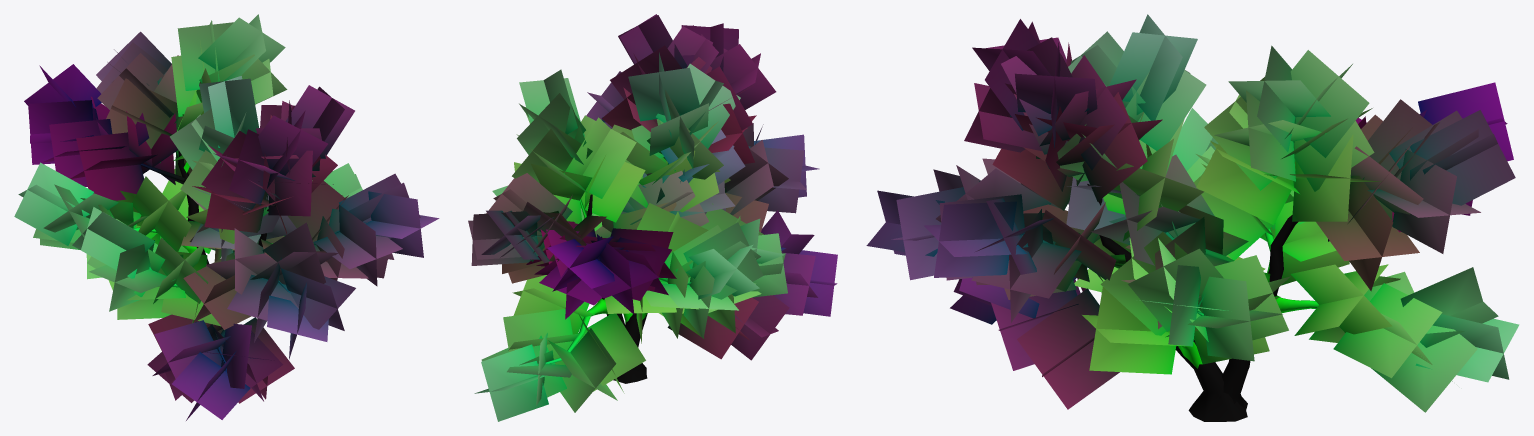
File: M_P11_Tree_8.fbx
3 views of the same model, side by side, from view 1: azimuth 30°, elevation 25°; view 2: azimuth 150°, elevation 25°; view 3: azimuth 270°, elevation 25° (orthographic). The views are drawn at different scales.
Parts seen in each view (by area): view 1: Tree_8; view 2: Tree_8; view 3: Tree_8.
Part boxes in pixels (left/top/right/bottom): Tree_8: left=14, top=14, right=439, bottom=420; Tree_8: left=468, top=14, right=837, bottom=421; Tree_8: left=866, top=14, right=1519, bottom=421.
Bounding box in the file's own units: 576 × 558 × 832.
